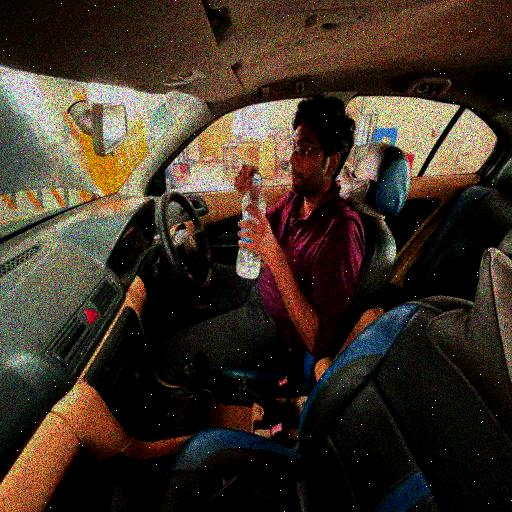Drinking: (218, 89, 367, 369)
